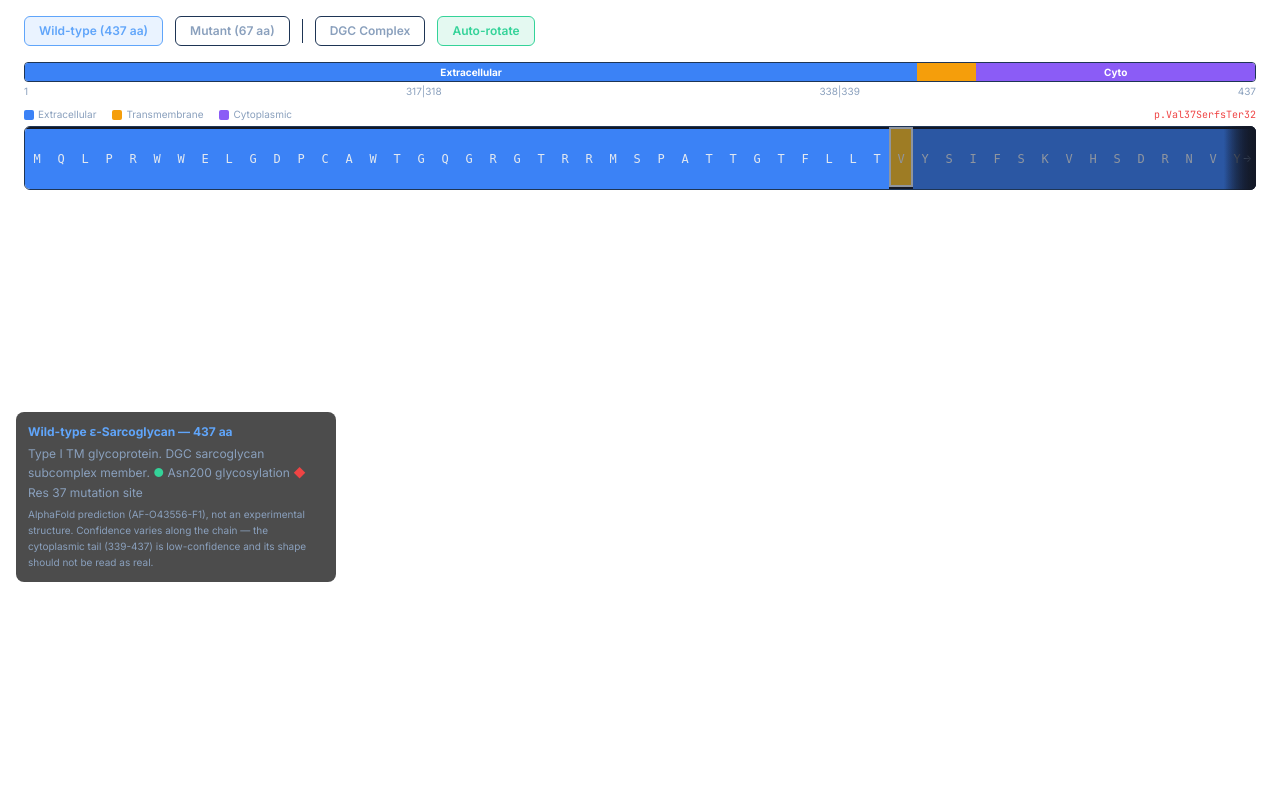
ProteinStructure3D › switches to mutant overlay when clicking Mutant button
What coordinates should you click on to do the following:
click the button "Mutant (67 aa)"
I would click on:
 (232, 31)
Its box is [175,16,290,46].
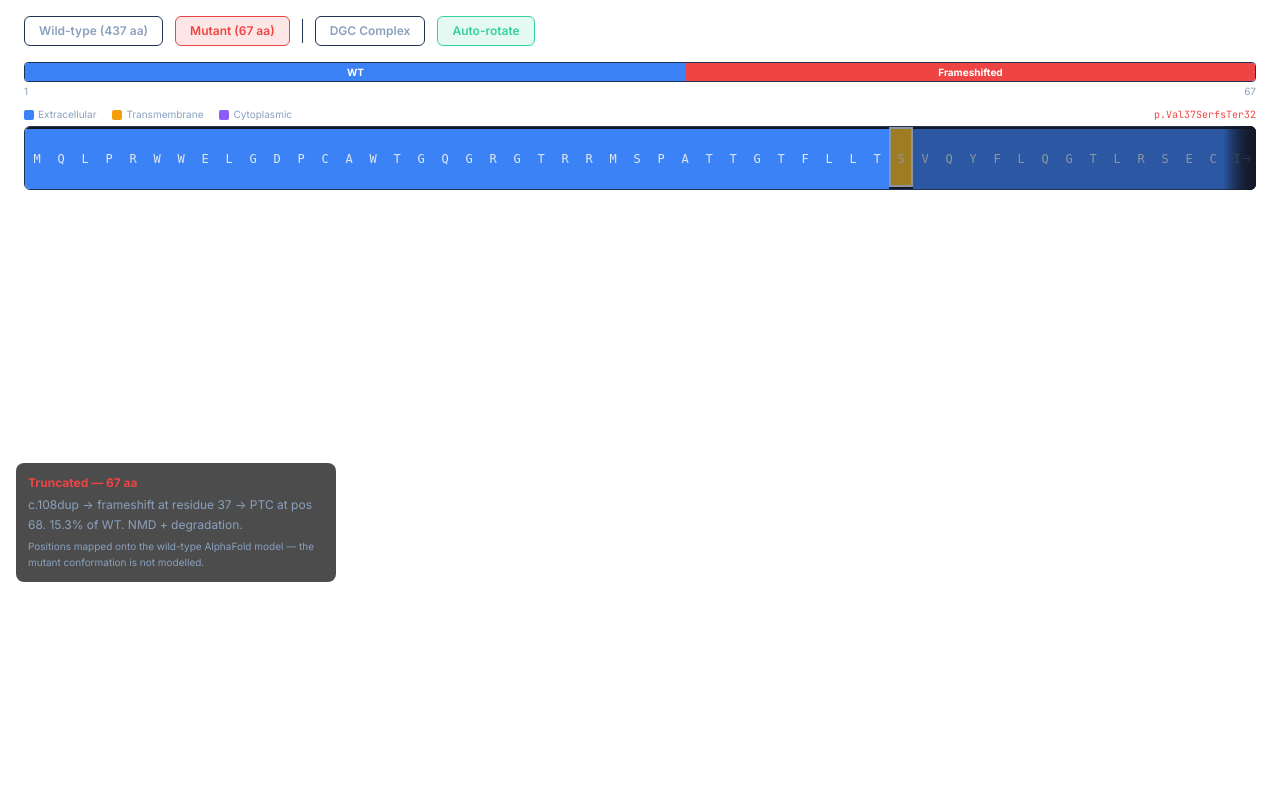
Check: the text "Truncated — 67 aa" is shown, box [28,475,138,490]
